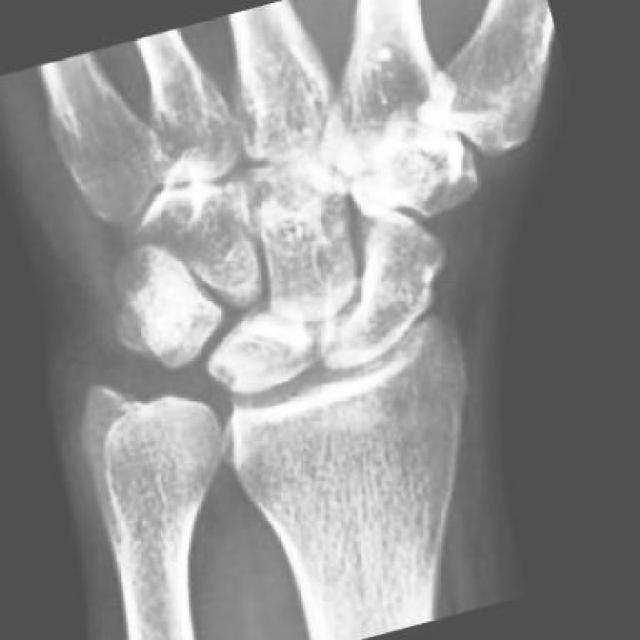Fracture: (274, 345, 485, 481)
